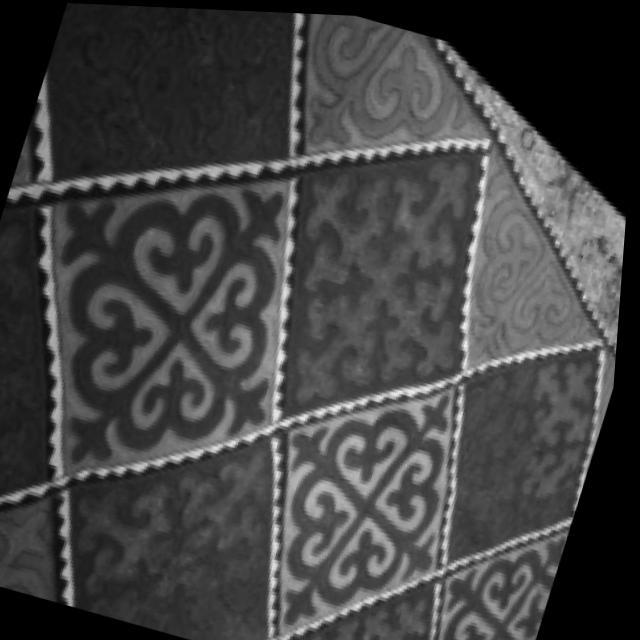Unity: (62, 179, 290, 480), (273, 390, 447, 636), (467, 145, 596, 360), (295, 14, 479, 153), (440, 527, 570, 640)
